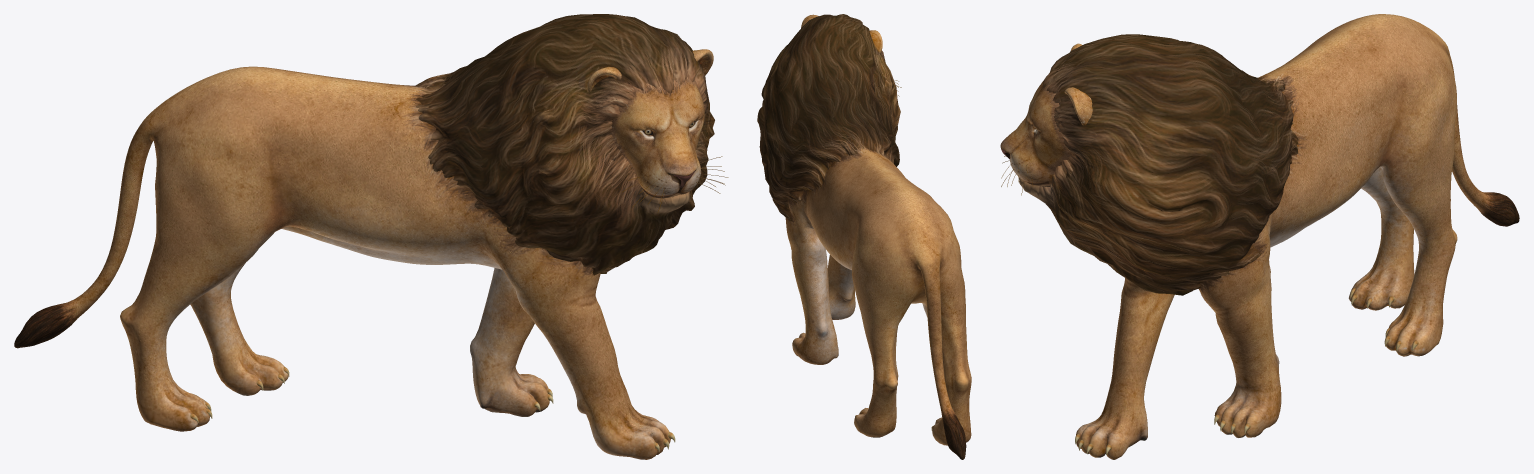
File: lion.glb
3 views of the same model, side by side, from view 1: azimuth 30°, elevation 25°; view 2: azimuth 150°, elevation 25°; view 3: azimuth 270°, elevation 25° (orthographic). The views are drawn at different scales.
Parts seen in each view (by area): view 1: node_id30_1; view 2: node_id30_1; view 3: node_id30_1.
Part boxes in pixels (bbox=[...]): node_id30_1: bbox=[14, 14, 728, 459]; node_id30_1: bbox=[757, 14, 971, 459]; node_id30_1: bbox=[1000, 14, 1519, 459].
Size of the model in its own units: 0.6052 by 0.512 by 0.5944.
Materials: 1 (1 with a texture image).
